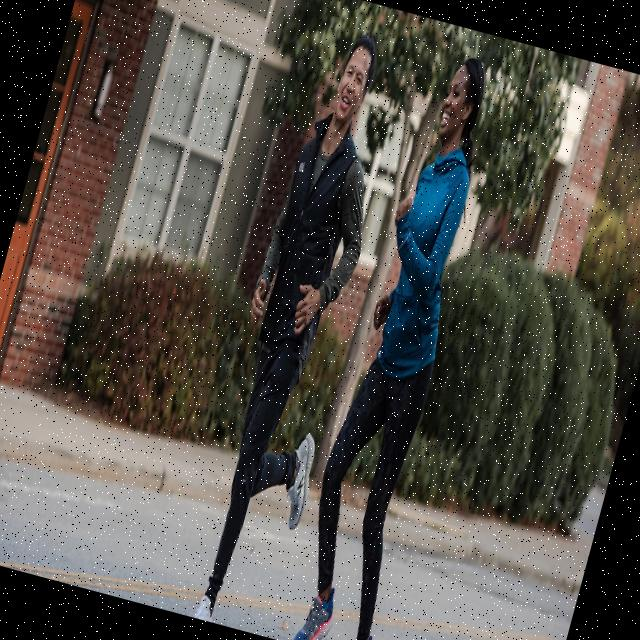Person: (170, 24, 428, 638), (278, 47, 526, 640)
